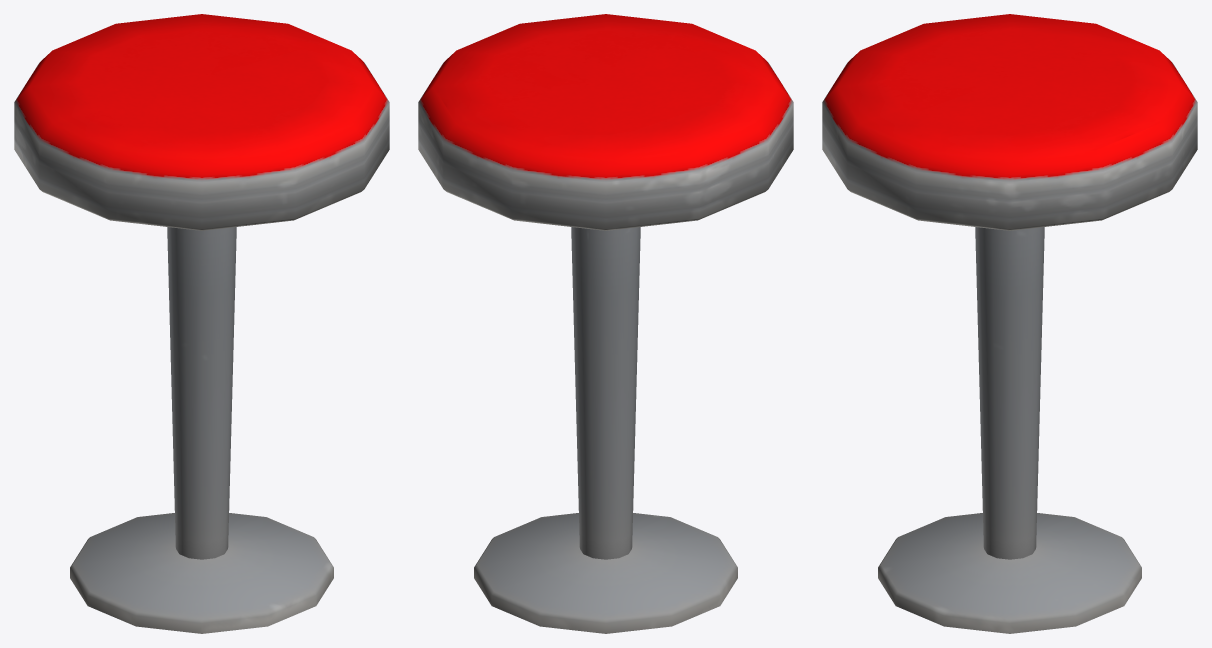
The model's file is CafeChair01_1.FBX.
The picture shows the model from 3 angles, left to right: view 1: azimuth 30°, elevation 25°; view 2: azimuth 150°, elevation 25°; view 3: azimuth 270°, elevation 25°; orthographic projection.
Parts seen in each view (by area): view 1: CafeChair01_1; view 2: CafeChair01_1; view 3: CafeChair01_1.
Boxes of the visible parts, bbox=[...] form: CafeChair01_1: bbox=[14, 14, 389, 633]; CafeChair01_1: bbox=[418, 14, 793, 633]; CafeChair01_1: bbox=[822, 14, 1197, 633].
Size of what is drawn, in the model's own units: 0.5366 by 0.783 by 0.5366.
